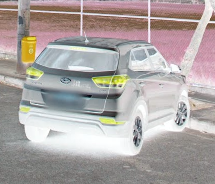car: (22, 37, 190, 158)
